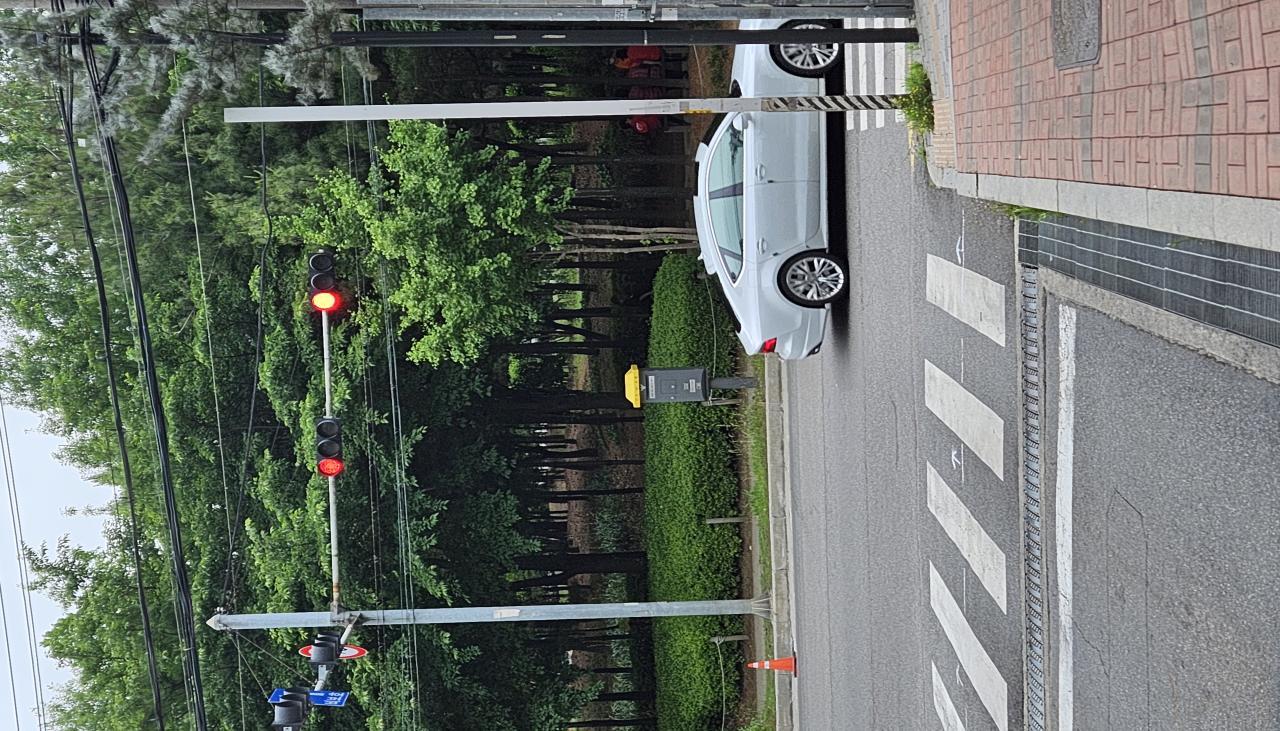Red Light: (334, 241, 358, 261), (552, 236, 576, 256)
